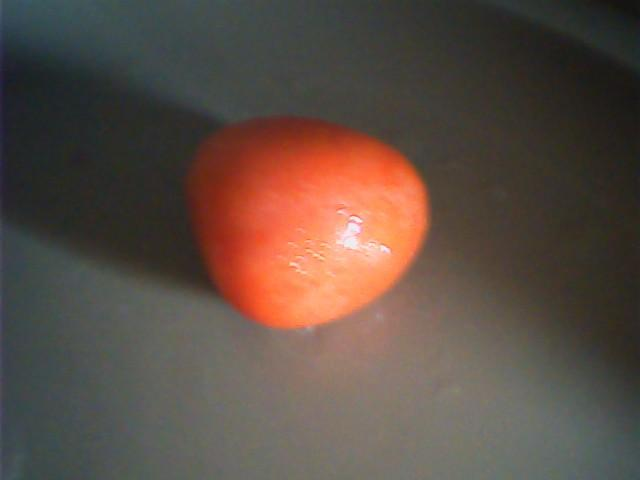maduro: (179, 114, 431, 329)
